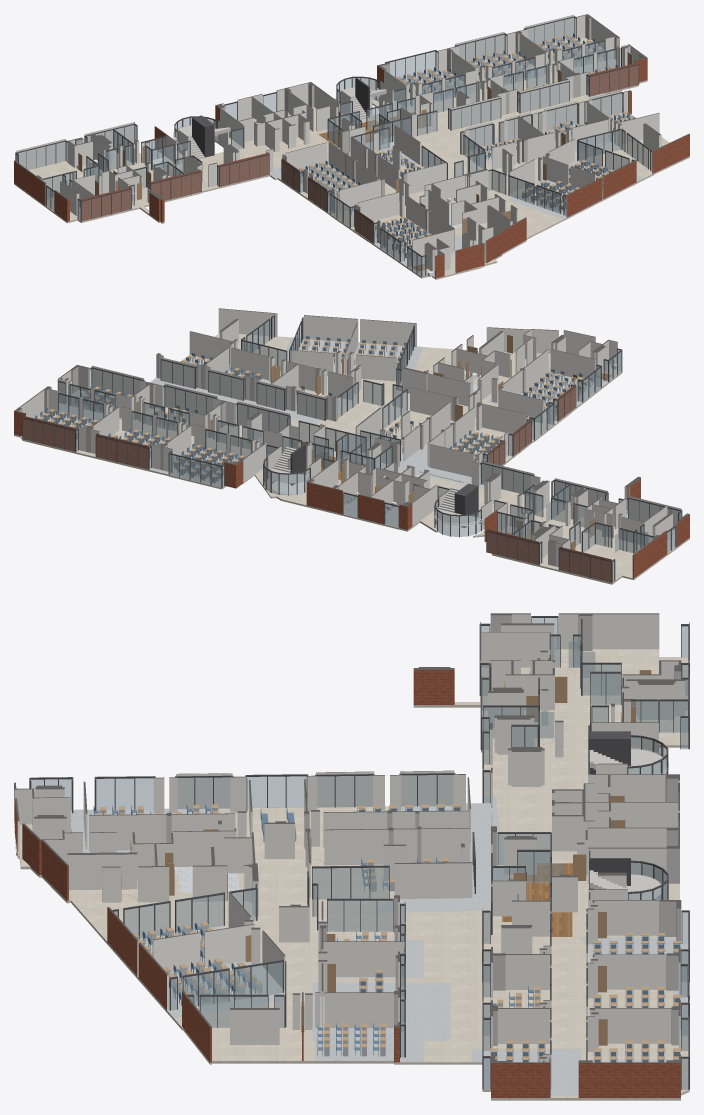
The model's file is campus.glb.
3 renders of one model, top to bottom at view 1: azimuth 30°, elevation 25°; view 2: azimuth 150°, elevation 25°; view 3: azimuth 270°, elevation 25°, orthographic. The views are drawn at different scales.
Parts seen in each view (by area): view 1: P4_Walls, P4_Glass, P4_Floor_Slab, P4_Glass_Mullions, P4_Floor_Zones, P4_Glass_Frames_Top, P4_Columns, P4_Furniture_3_3, P4_Doors, P4_Stair_A_West, P4_Furniture_2_1, P4_Furniture_1_2 (+5 smaller); view 2: P4_Walls, P4_Glass, P4_Floor_Slab, P4_Glass_Mullions, P4_Floor_Zones, P4_Columns, P4_Glass_Frames_Top, P4_Doors, P4_Furniture_3_3, P4_Stair_A_West, P4_Furniture_2_3, P4_Furniture_1_1 (+4 smaller); view 3: P4_Walls, P4_Floor_Slab, P4_Glass, P4_Floor_Zones, P4_Columns, P4_Glass_Mullions, P4_Glass_Frames_Top, P4_Doors, P4_Furniture_3_2, P4_Furniture_3_3, P4_Stair_A_West, P4_Stair_A_East (+4 smaller).
Part boxes in pixels (bbox=[...]): P4_Walls: bbox=[14, 15, 689, 278]; P4_Glass: bbox=[16, 18, 651, 276]; P4_Floor_Slab: bbox=[14, 37, 689, 279]; P4_Glass_Mullions: bbox=[15, 17, 650, 276]; P4_Floor_Zones: bbox=[269, 42, 644, 271]; P4_Glass_Frames_Top: bbox=[15, 16, 651, 256]; P4_Columns: bbox=[35, 14, 647, 233]; P4_Furniture_3_3: bbox=[442, 33, 617, 95]; P4_Doors: bbox=[64, 52, 632, 234]; P4_Stair_A_West: bbox=[173, 115, 230, 159]; P4_Furniture_2_1: bbox=[522, 171, 579, 211]; P4_Furniture_1_2: bbox=[299, 160, 360, 214]; P4_Walls: bbox=[17, 308, 682, 582]; P4_Glass: bbox=[23, 317, 681, 582]; P4_Floor_Slab: bbox=[14, 332, 689, 584]; P4_Glass_Mullions: bbox=[22, 315, 682, 582]; P4_Floor_Zones: bbox=[59, 337, 611, 527]; P4_Columns: bbox=[14, 353, 689, 566]; P4_Glass_Frames_Top: bbox=[23, 315, 681, 561]; P4_Doors: bbox=[136, 334, 648, 552]; P4_Furniture_3_3: bbox=[35, 396, 201, 468]; P4_Stair_A_West: bbox=[434, 483, 484, 527]; P4_Furniture_2_3: bbox=[176, 446, 244, 482]; P4_Furniture_1_1: bbox=[523, 369, 592, 415]; P4_Walls: bbox=[14, 613, 689, 1097]; P4_Floor_Slab: bbox=[14, 648, 689, 1100]; P4_Glass: bbox=[31, 618, 688, 1089]; P4_Floor_Zones: bbox=[71, 796, 688, 1095]; P4_Columns: bbox=[166, 613, 681, 1097]; P4_Glass_Mullions: bbox=[29, 616, 689, 1097]; P4_Glass_Frames_Top: bbox=[29, 616, 689, 1064]; P4_Doors: bbox=[121, 636, 651, 1045]; P4_Furniture_3_2: bbox=[248, 969, 529, 1074]; P4_Furniture_3_3: bbox=[528, 985, 681, 1062]; P4_Stair_A_West: bbox=[589, 731, 668, 774]; P4_Stair_A_East: bbox=[589, 858, 661, 899].
Bounding box in the file's own units: 77.05 × 4.04 × 48.96.
19 materials, 5 textured.
